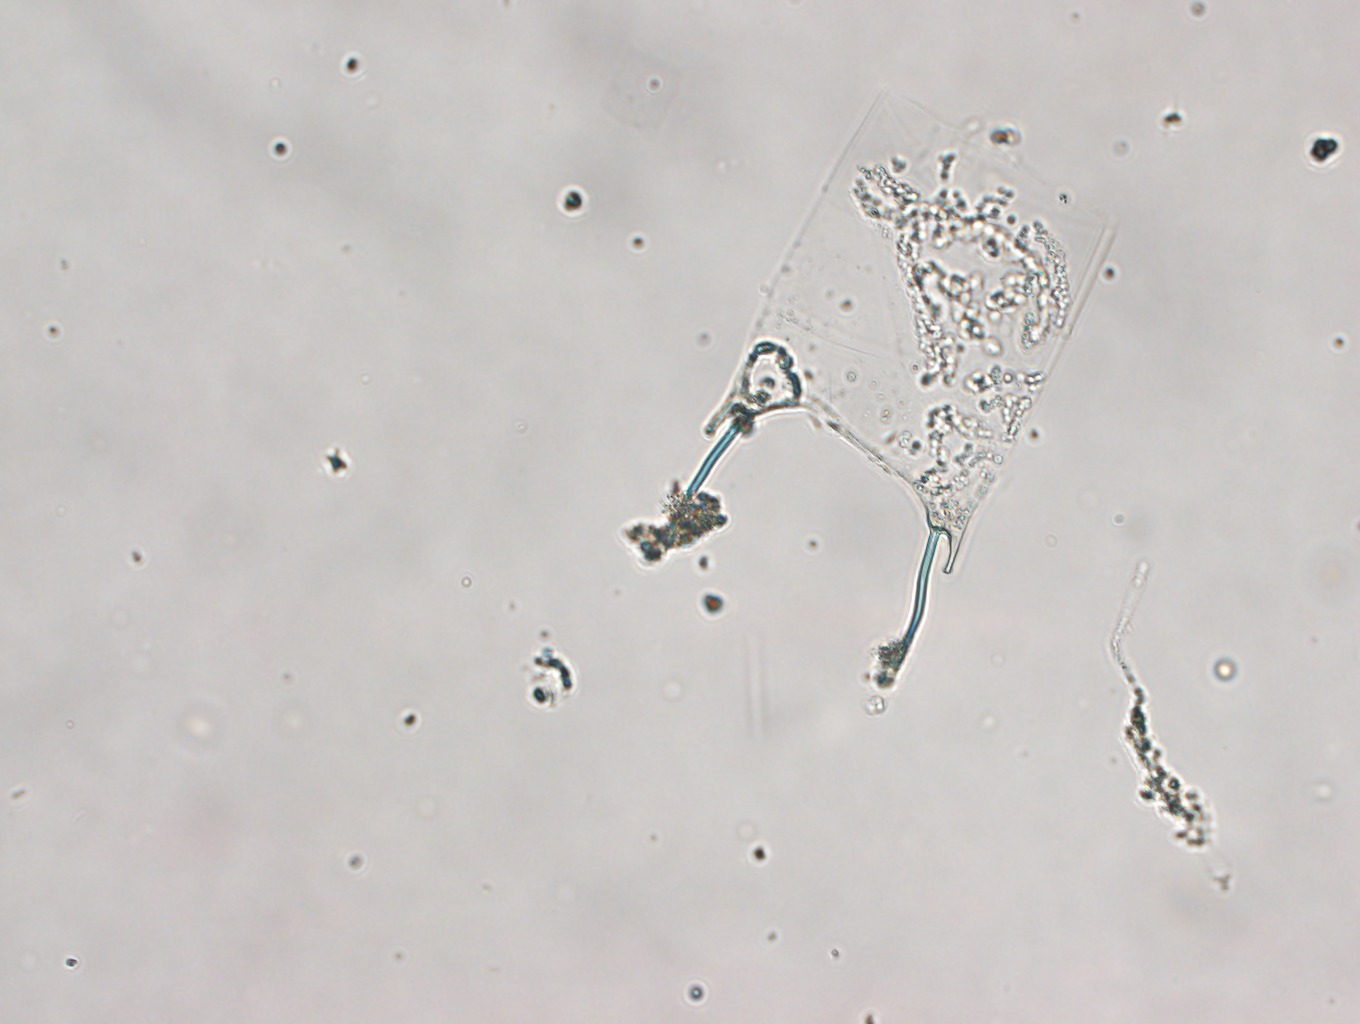biddulphia: (673, 65, 1123, 657)
